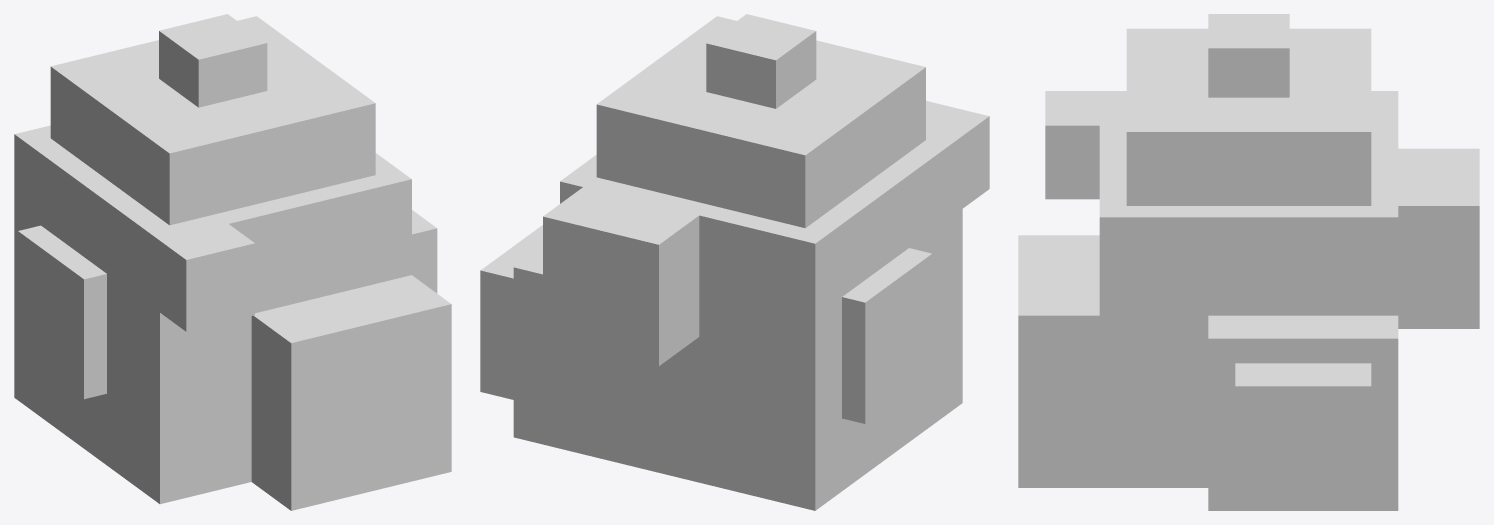
The model's file is cloud.obj.
3 renders of one model, left to right at view 1: azimuth 30°, elevation 25°; view 2: azimuth 150°, elevation 25°; view 3: azimuth 270°, elevation 25°, orthographic. The views are drawn at different scales.
Bounding box in the file's own units: 16 × 16 × 17.
